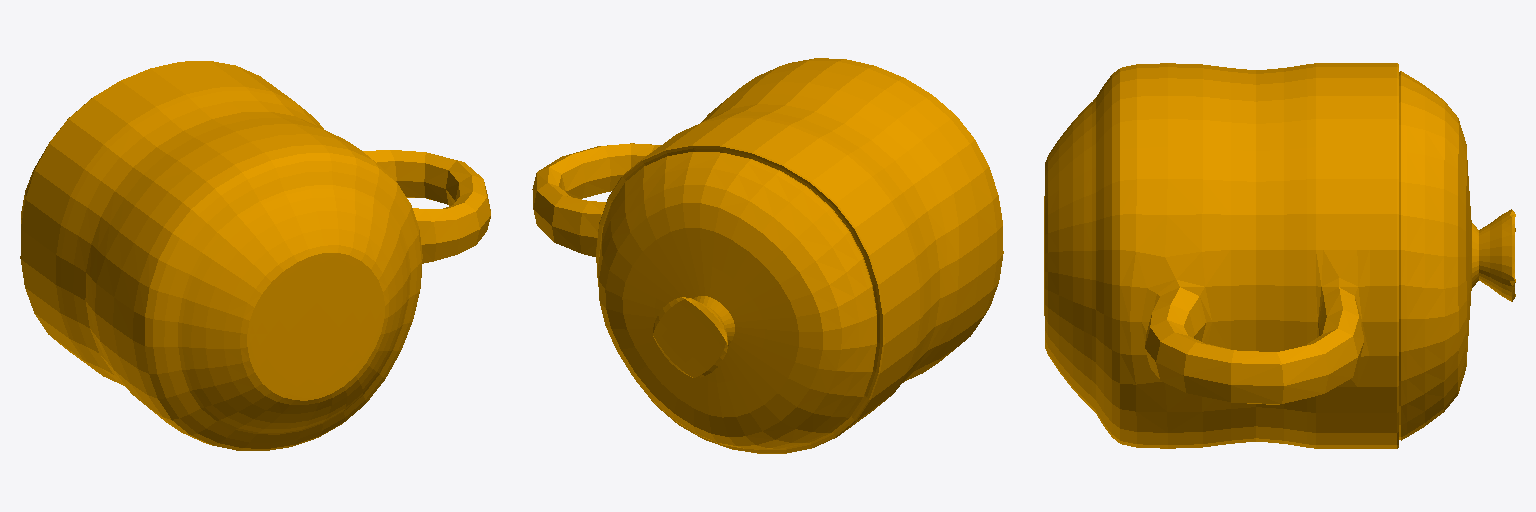
robot.urdf — 167:
<?xml version="1.0" ?>
<robot name="167">
  <link name="body">
    <visual>
      <geometry>
        <mesh filename="../shapes/167.obj"/>
      </geometry>
    </visual>
    <collision>
      <geometry>
        <mesh filename="../shapes/167.obj"/>
      </geometry>
    </collision>
  </link>
</robot>

--- Render facts (derived) ---
The picture shows the robot from 3 angles, left to right: view 1: azimuth 30°, elevation 25°; view 2: azimuth 150°, elevation 25°; view 3: azimuth 270°, elevation 25°; orthographic projection.
Model 167 with 1 links and 0 joints (none), rooted at body, posed all joints at 0.
Visible links, largest first — view 1: body; view 2: body; view 3: body.
Link boxes in pixels (x1,y1,x2,y2): body: (20, 61, 490, 450); body: (532, 58, 1003, 453); body: (1044, 63, 1515, 448).
Bounding box of the posed robot: 3.37 × 3.03 × 2.42 m (x, y, z).
1 mesh visuals loaded from 1 distinct referenced files (1 OBJ).